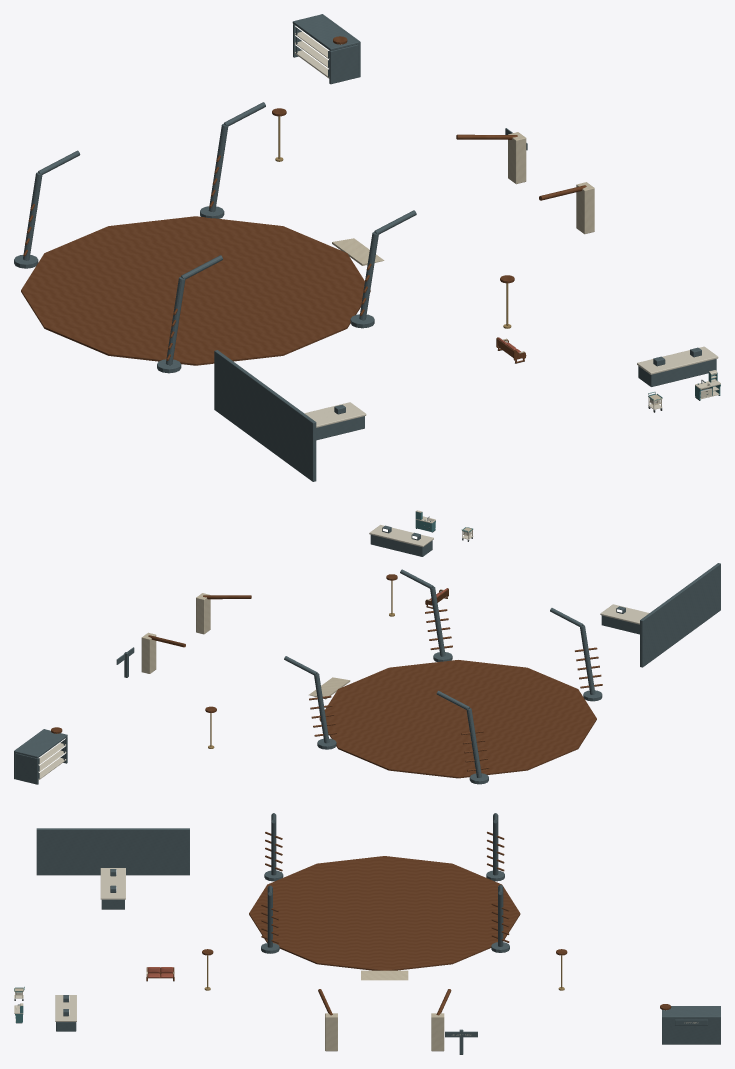
Rendered from SOL_D07_directory_07_source001.glb.
3 views of the same model, one above another, from view 1: azimuth 30°, elevation 25°; view 2: azimuth 150°, elevation 25°; view 3: azimuth 270°, elevation 25° (orthographic). The views are drawn at different scales.
Parts seen in each view (by area): view 1: C_practice_arena_edge, C_gravity_control_back, C_care_top, C_practice_support_base, C_care_cheek_10.4, C_practice_support_top, C_threshold_pier0, C_threshold_pier1, C_gravity_observation_top; view 2: C_practice_arena_edge, C_gravity_control_back, C_care_top, C_practice_support_base, C_care_cheek_5.6, C_practice_support_top, C_threshold_pier0, C_threshold_pier1, C_gravity_observation_top; view 3: C_practice_arena_edge, C_gravity_control_back, C_care_back, C_gravity_observation_top, C_care_top, C_threshold_pier0, C_practice_threshold_ramp, C_practice_support_top, C_threshold_pier1.
Boxes of the visible parts, x1,y1,x2,y2 form: C_practice_arena_edge: (21,216,370,365); C_gravity_control_back: (214,350,316,481); C_care_top: (292,14,358,50); C_practice_support_base: (638,359,716,386); C_care_cheek_10.4: (329,44,358,84); C_practice_support_top: (637,346,718,374); C_threshold_pier0: (508,132,526,184); C_threshold_pier1: (576,182,594,234); C_gravity_observation_top: (304,402,366,427); C_practice_arena_edge: (319,660,596,778); C_gravity_control_back: (640,563,720,667); C_care_top: (15,729,67,758); C_practice_support_base: (370,534,432,556); C_care_cheek_5.6: (15,753,38,784); C_practice_support_top: (369,525,433,547); C_threshold_pier0: (141,632,156,673); C_threshold_pier1: (196,593,210,634); C_gravity_observation_top: (600,604,649,624); C_practice_arena_edge: (249,856,520,970); C_gravity_control_back: (36,828,189,875); C_care_back: (662,1016,720,1044); C_gravity_observation_top: (100,868,125,899); C_care_top: (662,1006,720,1016); C_threshold_pier0: (431,1013,444,1051); C_practice_threshold_ramp: (361,970,408,980); C_practice_support_top: (55,995,76,1021); C_threshold_pier1: (325,1013,337,1051).
Size of the model in its own units: 39.66 by 7.27 by 59.92.
Materials: 25 (24 with a texture image).
